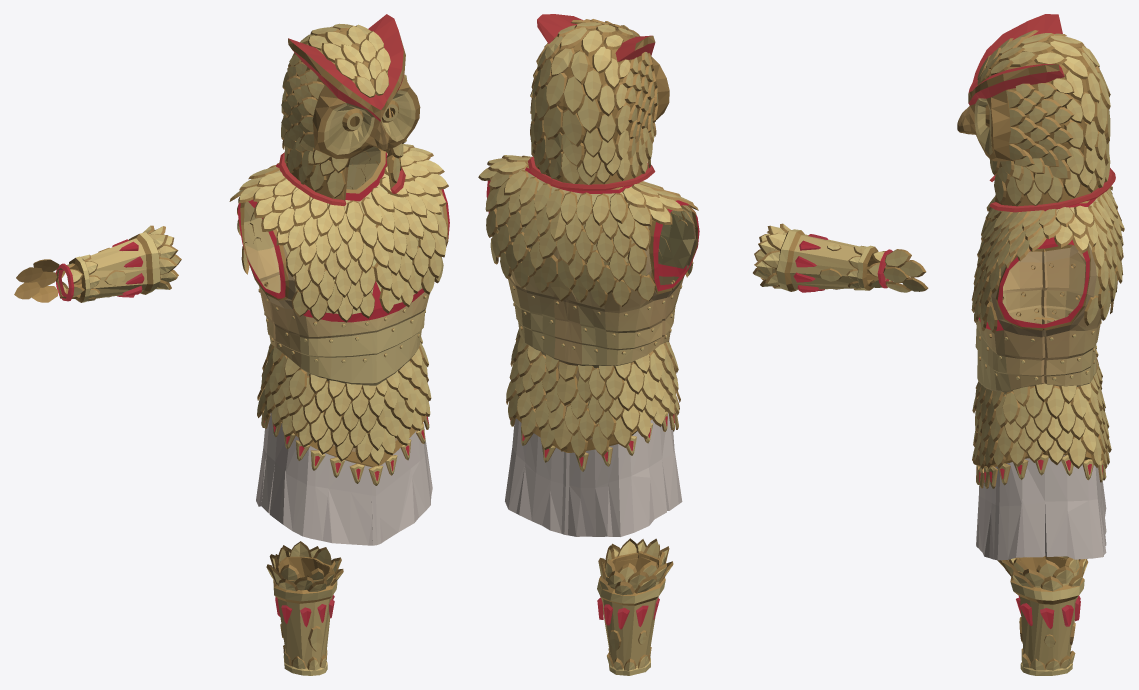
File: greekOwlWarrior.glb
The picture shows the model from 3 angles, left to right: view 1: azimuth 30°, elevation 25°; view 2: azimuth 150°, elevation 25°; view 3: azimuth 270°, elevation 25°; orthographic projection. The views are drawn at different scales.
Parts seen in each view (by area): view 1: greekOwlWarriorBody, greekOwlWarriorHelmet, greekOwlWarriorLegBraces, greekOwlWarriorArmBraces, greekOwlWarriorGlove; view 2: greekOwlWarriorBody, greekOwlWarriorHelmet, greekOwlWarriorLegBraces, greekOwlWarriorArmBraces, greekOwlWarriorGlove; view 3: greekOwlWarriorBody, greekOwlWarriorHelmet, greekOwlWarriorLegBraces.
Boxes of the visible parts, <box> form: greekOwlWarriorBody: <box>229,144,449,545</box>; greekOwlWarriorHelmet: <box>278,14,420,205</box>; greekOwlWarriorLegBraces: <box>266,541,343,675</box>; greekOwlWarriorArmBraces: <box>67,225,181,302</box>; greekOwlWarriorGlove: <box>14,259,84,302</box>; greekOwlWarriorBody: <box>478,155,699,536</box>; greekOwlWarriorHelmet: <box>528,14,669,190</box>; greekOwlWarriorLegBraces: <box>597,538,673,675</box>; greekOwlWarriorArmBraces: <box>753,223,878,292</box>; greekOwlWarriorGlove: <box>866,249,928,292</box>; greekOwlWarriorBody: <box>971,185,1124,560</box>; greekOwlWarriorHelmet: <box>957,14,1115,212</box>; greekOwlWarriorLegBraces: <box>997,556,1088,675</box>.
Size of the model in its own units: 1.31 by 1.83 by 0.4278.
